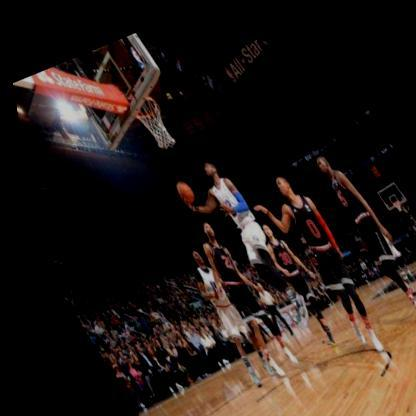basketball: (167, 172, 194, 201)
rim: (124, 86, 180, 150)
